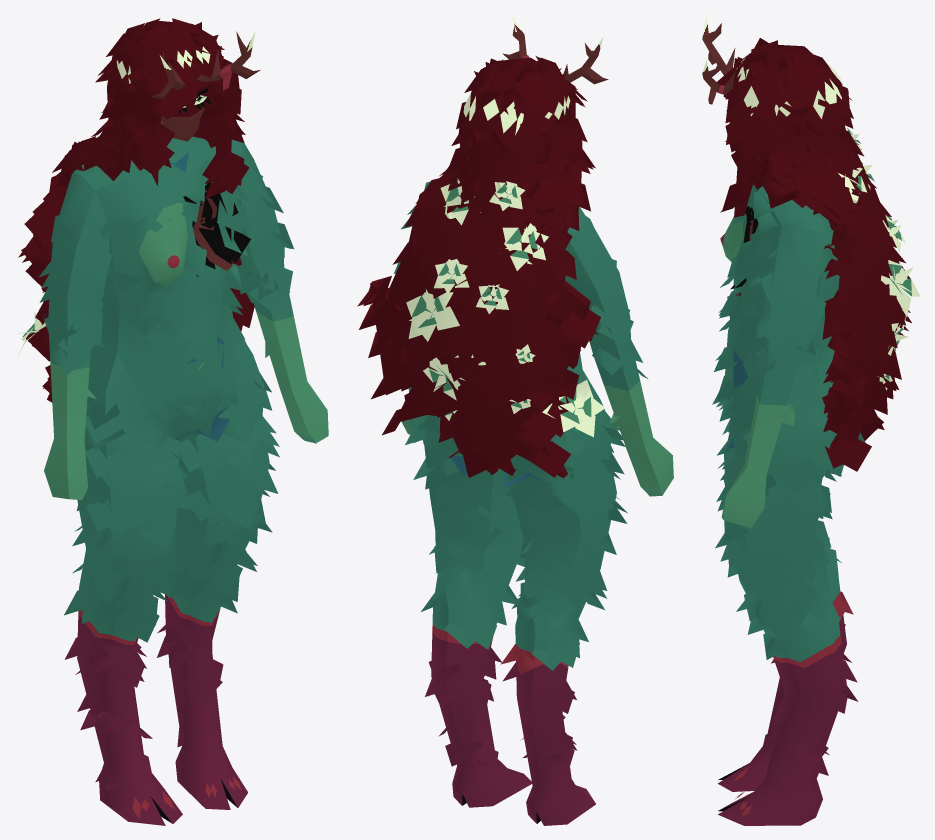
The model's file is muma.glb.
3 renders of one model, left to right at view 1: azimuth 30°, elevation 25°; view 2: azimuth 150°, elevation 25°; view 3: azimuth 270°, elevation 25°, orthographic. The views are drawn at different scales.
Visible parts, largest first — view 1: Legs, Model, Arms, Hair, Extra; view 2: Hair, Legs, Arms, Model, Extra; view 3: Hair, Legs, Model, Arms, Extra.
Part boxes in pixels (x1,y1,x2,y2): Legs: (64, 416, 279, 825); Model: (74, 72, 272, 455); Arms: (38, 142, 328, 499); Hair: (16, 18, 254, 402); Extra: (116, 31, 260, 99); Hair: (357, 56, 605, 478); Legs: (413, 446, 627, 825); Arms: (394, 205, 673, 496); Model: (405, 181, 625, 495); Extra: (463, 15, 608, 135); Hair: (717, 38, 920, 471); Legs: (715, 432, 858, 825); Model: (712, 184, 865, 493); Arms: (721, 210, 834, 528); Extra: (702, 14, 843, 118).
Size of what is drawn, in the model's own units: 0.6099 by 1.69 by 0.4412.
1 material, 1 textured.
